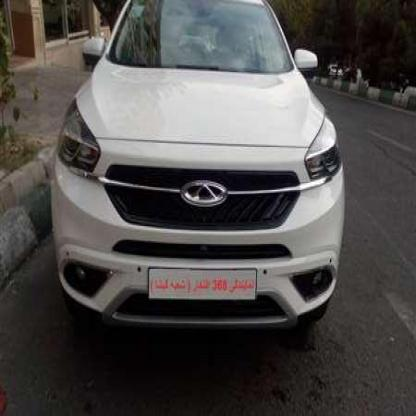Car: (51, 0, 345, 347)
